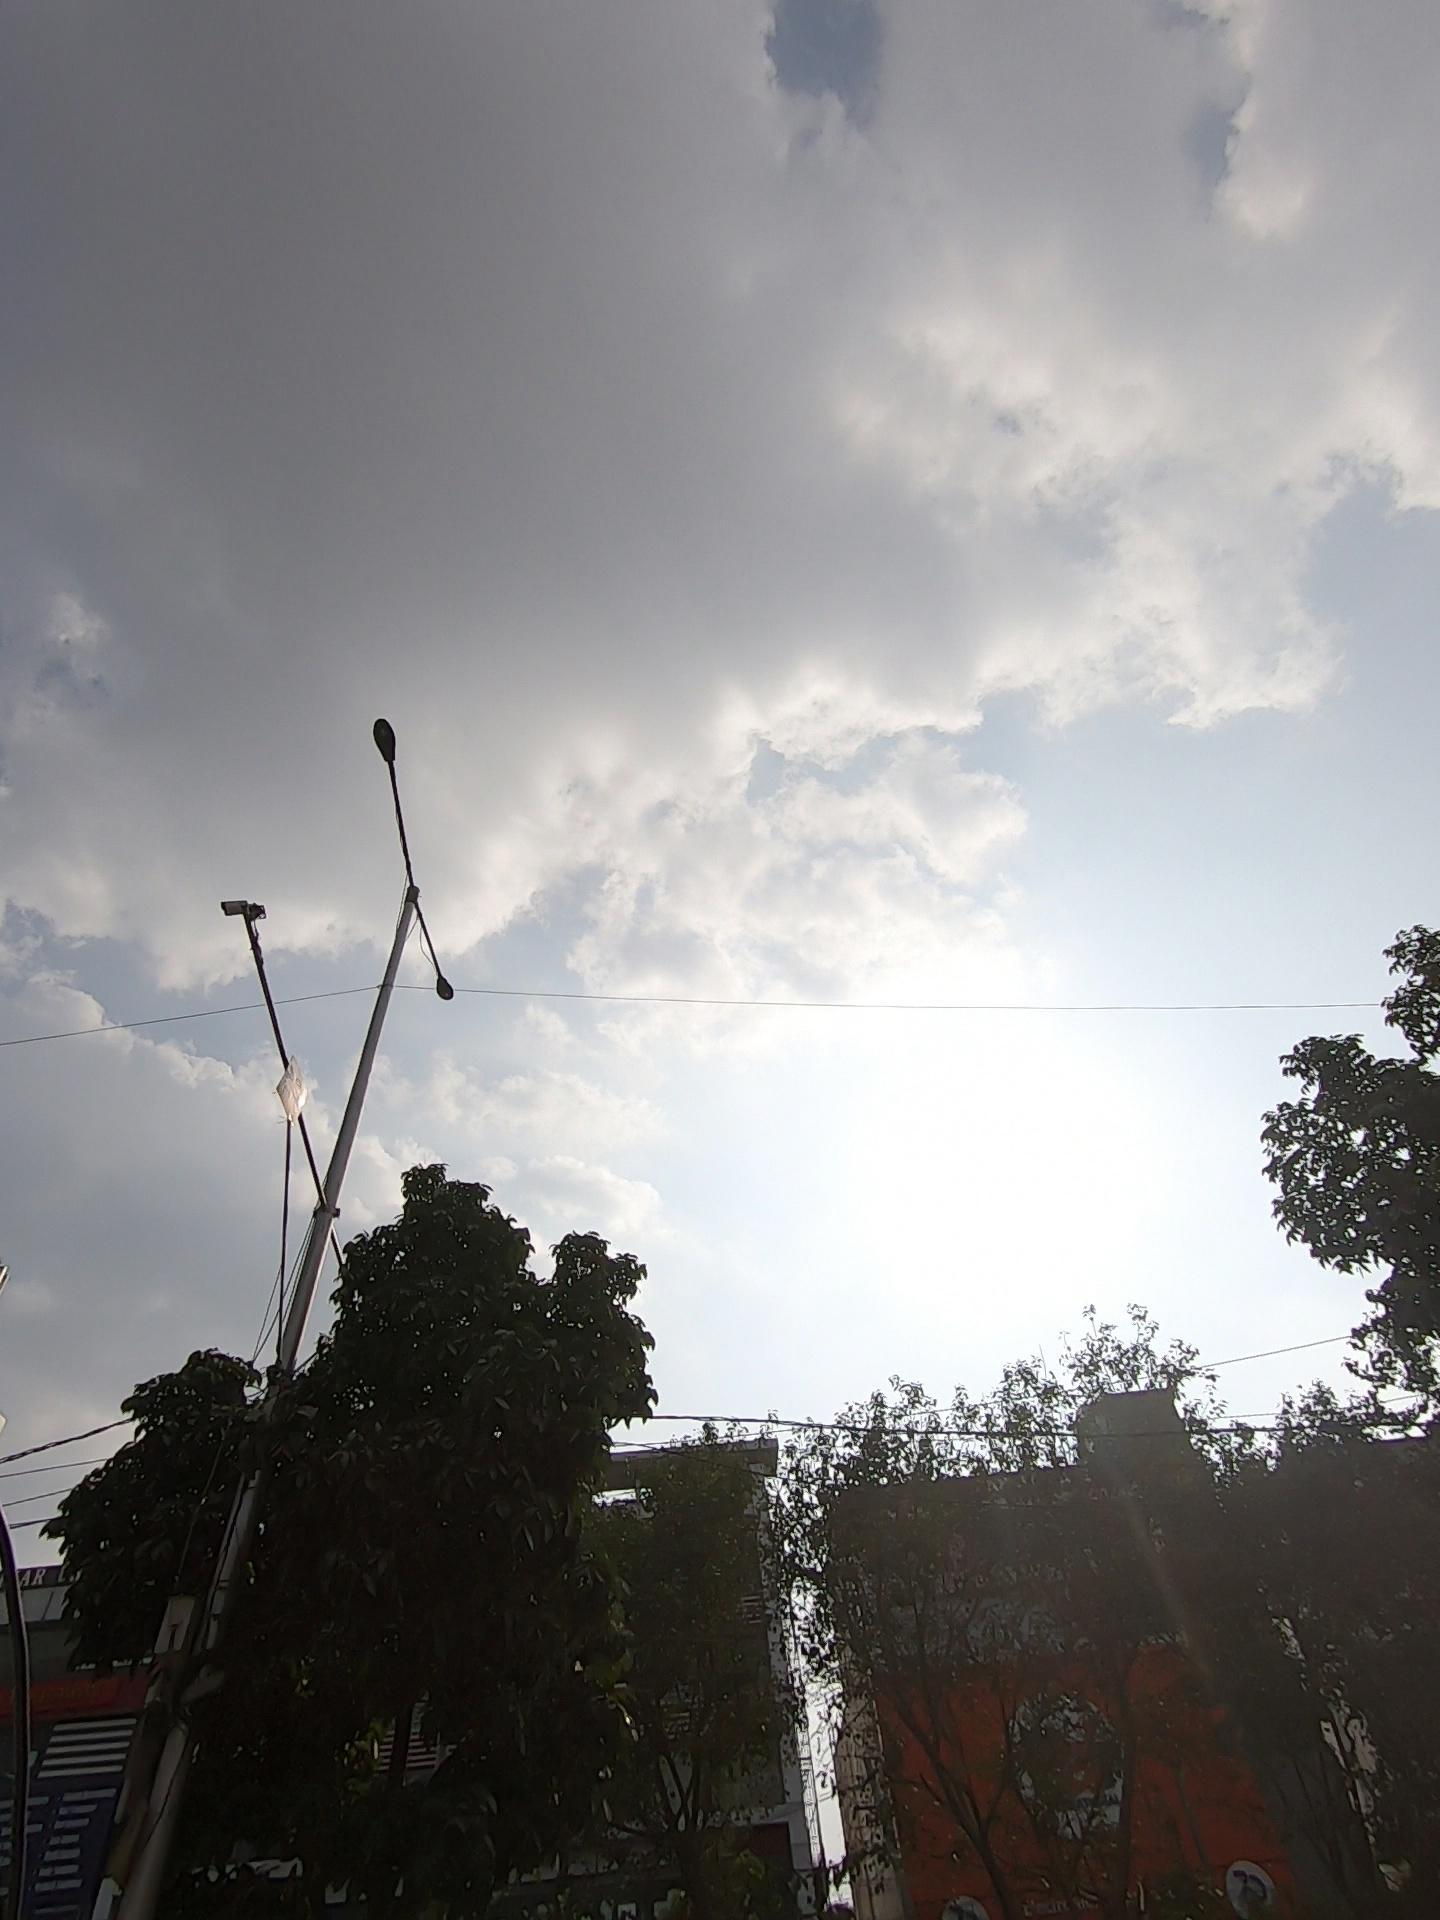off: (275, 676, 555, 1123)
